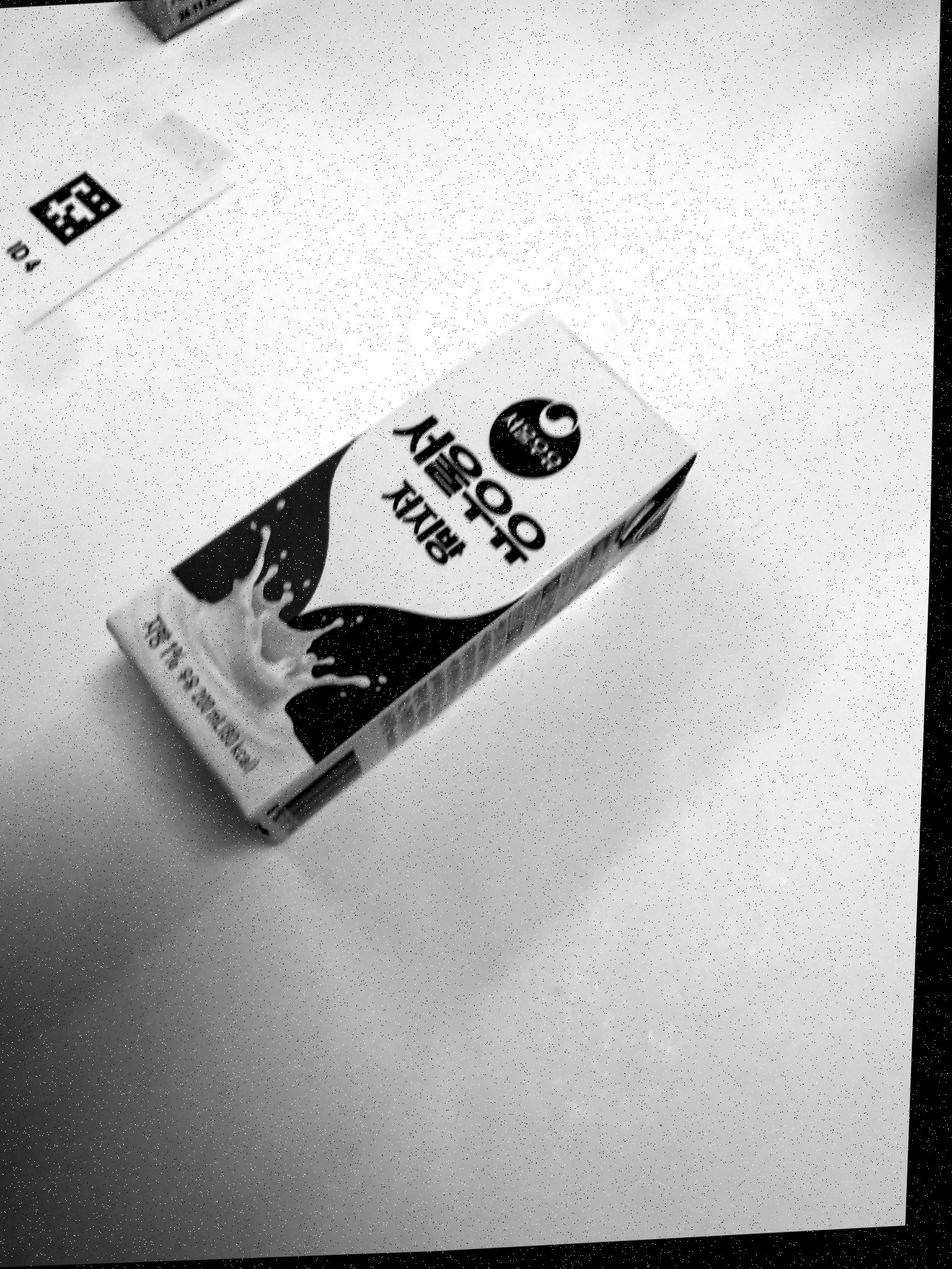milk_blue: (107, 314, 695, 840)
